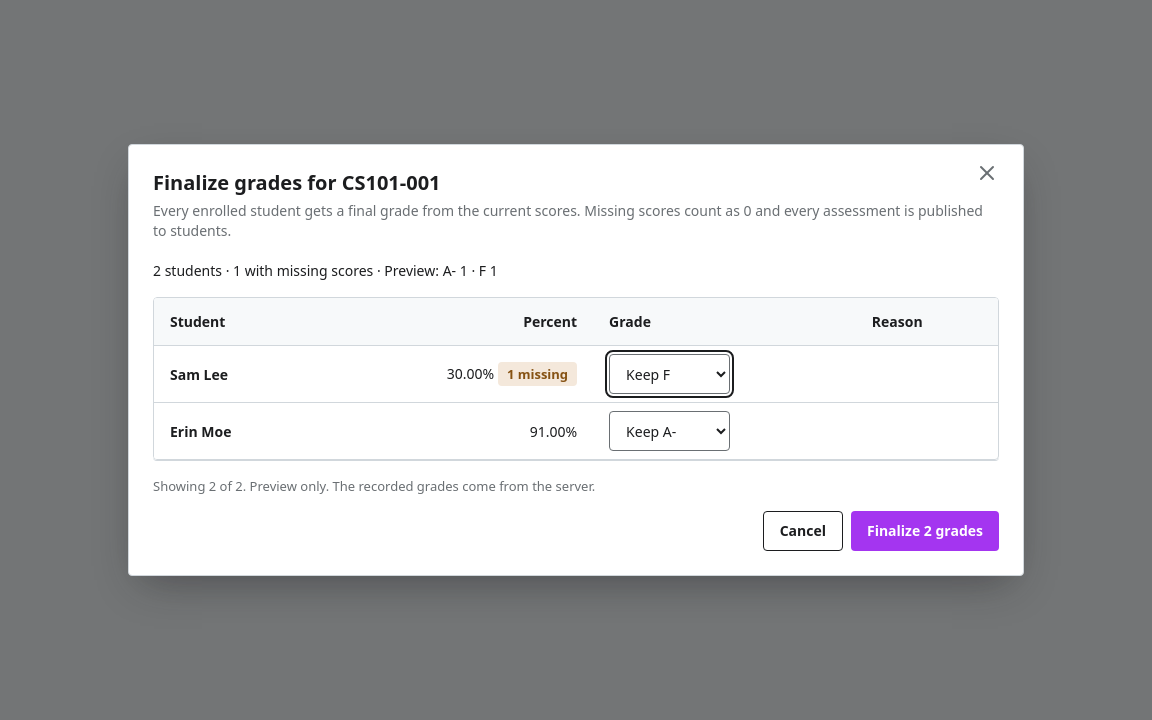
Test: blocks an override without a reason and focuses the input
Select "Incomplete" in the dropdown named "Grade for Sam Lee". click: x=670, y=374
box: [609, 354, 730, 394]
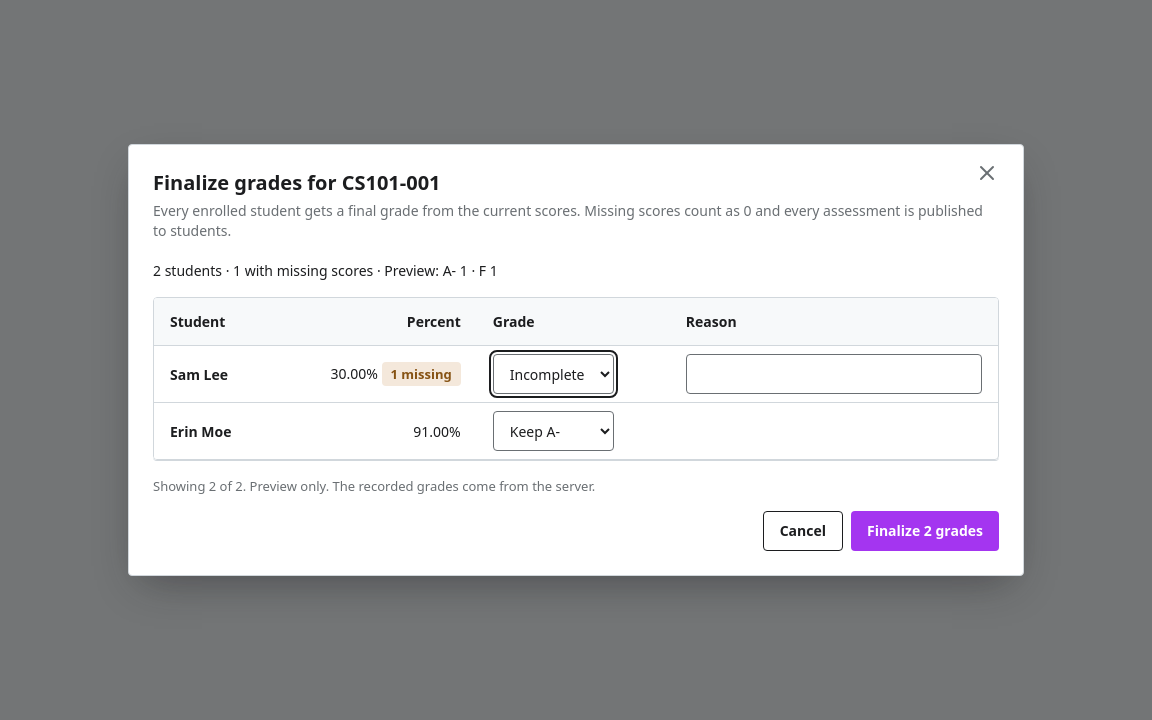
Click the button "Finalize 2 grades". click: x=925, y=531
box: [851, 511, 999, 551]
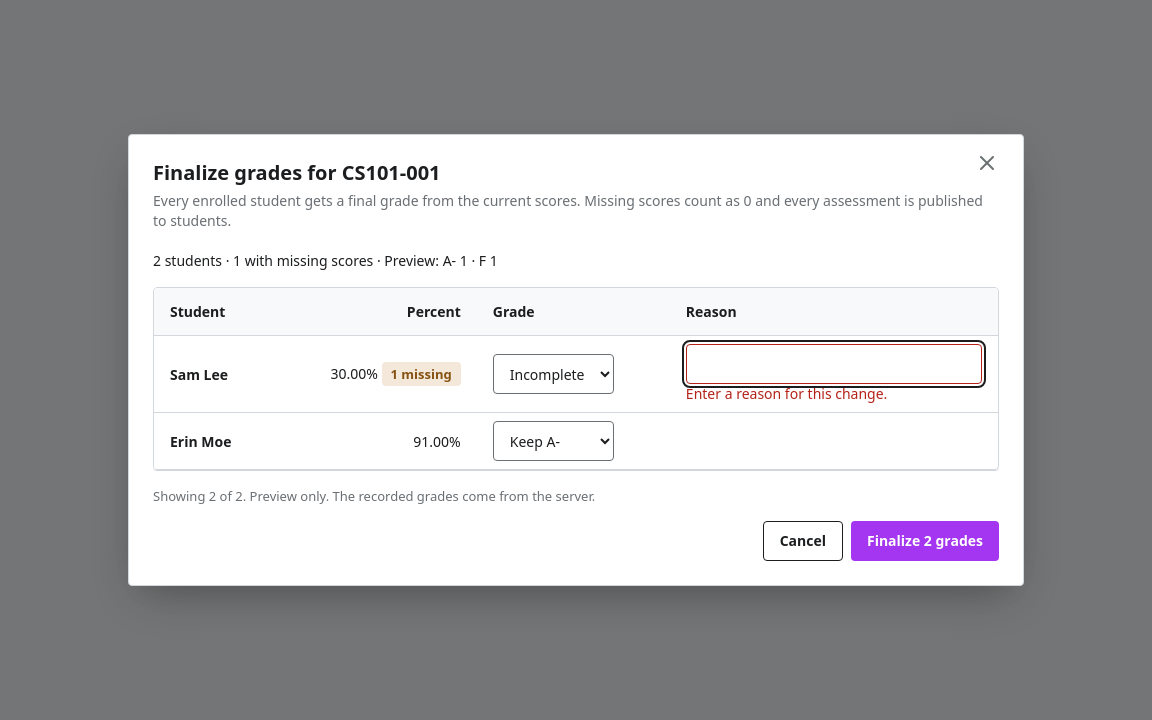
Check: the text "Enter a reason for this change." is shown, box [685, 383, 887, 403]
